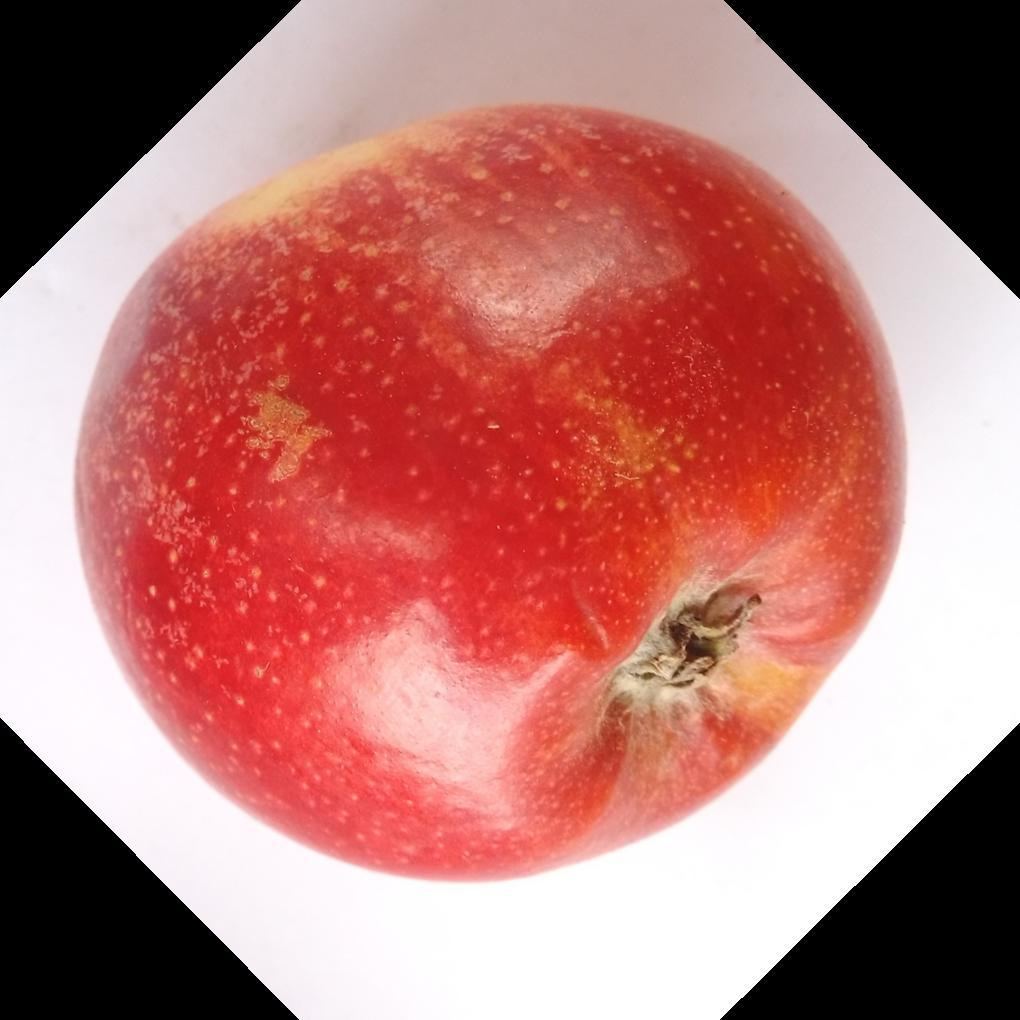FreshGuava: (69, 103, 908, 890)
